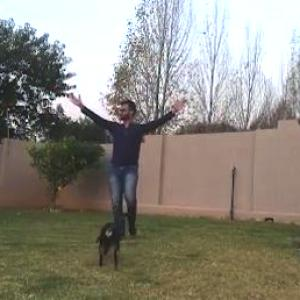takeoff: (63, 79, 201, 238)
